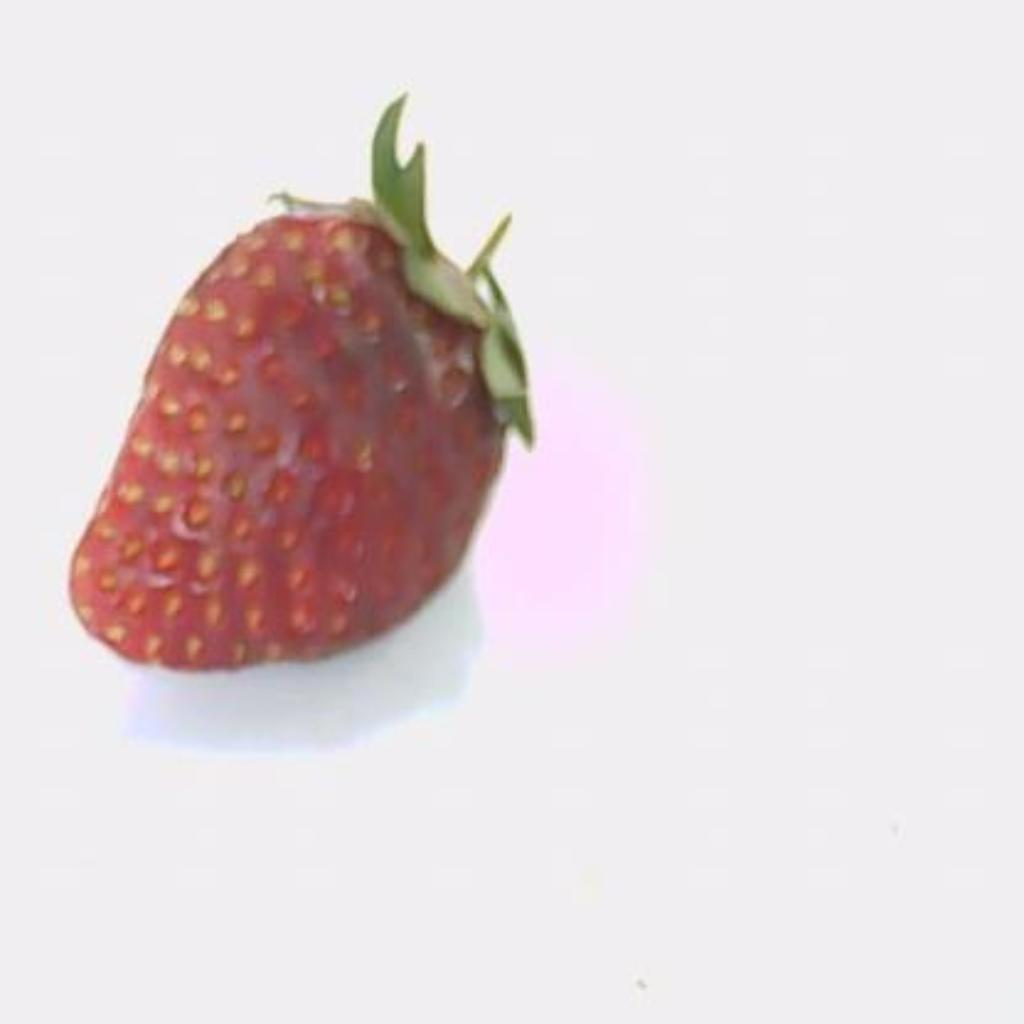strawberry: (70, 96, 534, 669)
